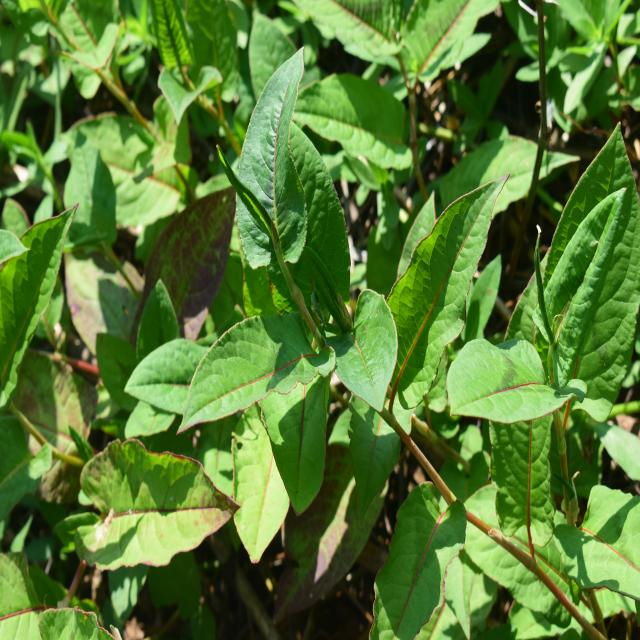Chinese_knotweed: (181, 63, 453, 460)
